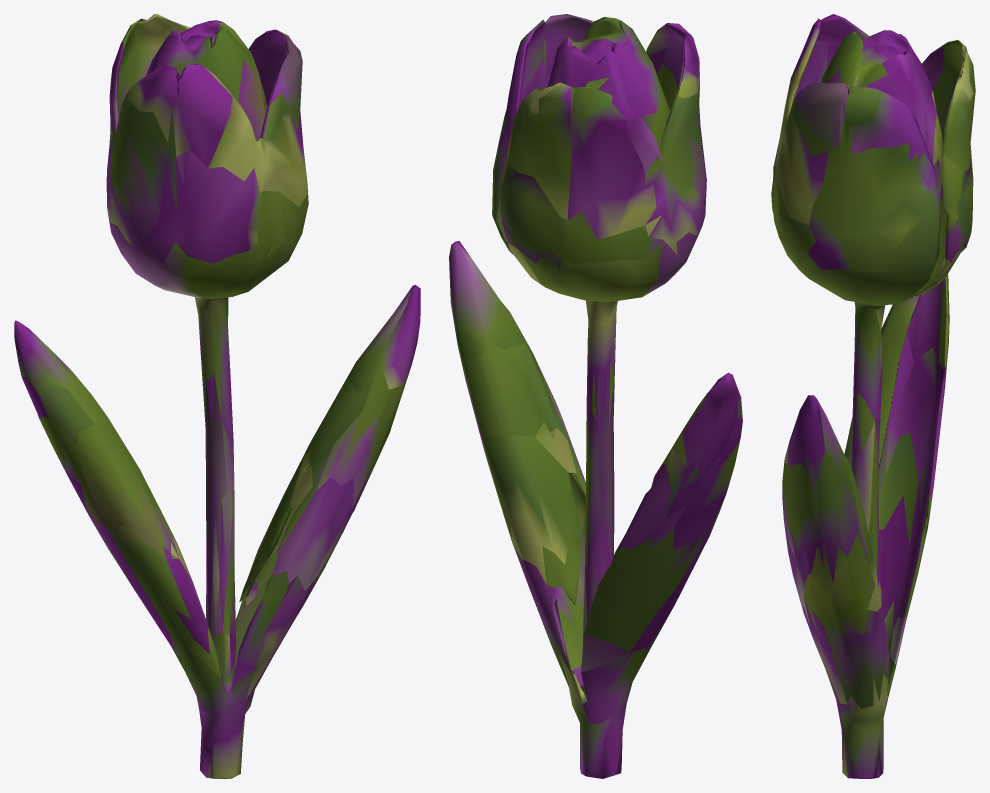
File: tulipan.glb
3 renders of one model, left to right at view 1: azimuth 30°, elevation 25°; view 2: azimuth 150°, elevation 25°; view 3: azimuth 270°, elevation 25°, orthographic. The views are drawn at different scales.
Parts seen in each view (by area): view 1: tripo_node_156f1319-08c7-4d77-81d5-6fdbea1fac58; view 2: tripo_node_156f1319-08c7-4d77-81d5-6fdbea1fac58; view 3: tripo_node_156f1319-08c7-4d77-81d5-6fdbea1fac58.
Boxes of the visible parts, x1=… form: tripo_node_156f1319-08c7-4d77-81d5-6fdbea1fac58: x1=14, y1=14, x2=420, y2=778; tripo_node_156f1319-08c7-4d77-81d5-6fdbea1fac58: x1=449, y1=14, x2=742, y2=778; tripo_node_156f1319-08c7-4d77-81d5-6fdbea1fac58: x1=771, y1=14, x2=975, y2=778.
Bounding box in the file's own units: 0.4842 × 1 × 0.2519.
